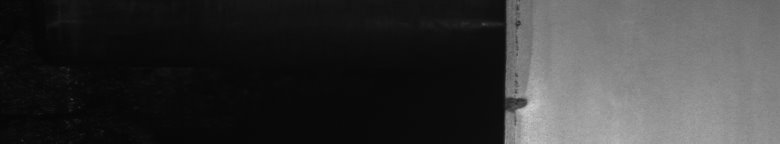hb: (516, 4, 537, 125)
